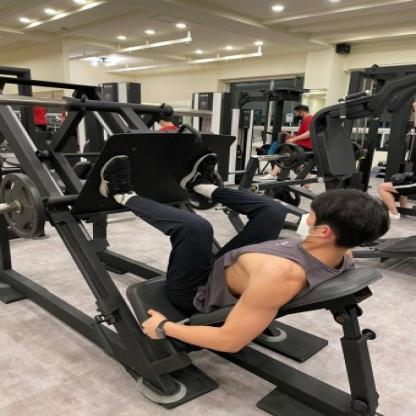leg press: (0, 82, 385, 416)
